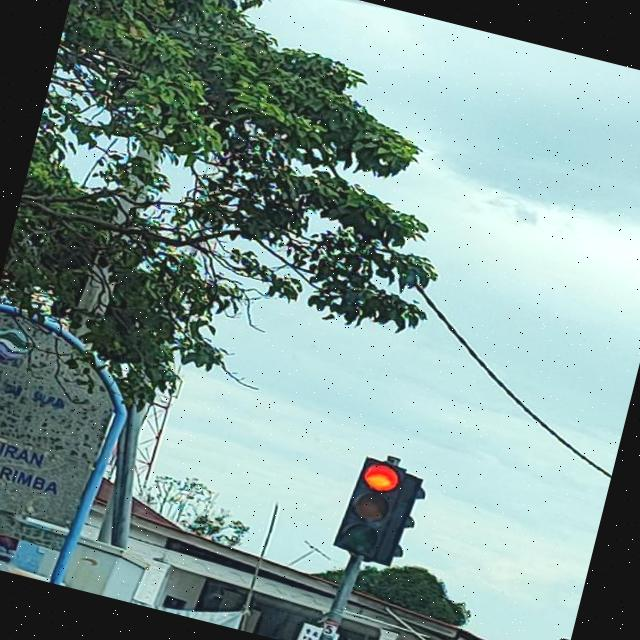red_light: (330, 452, 407, 558)
